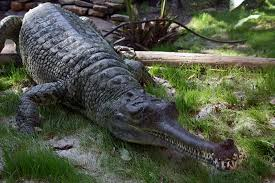Crocodile: (1, 1, 241, 171)
